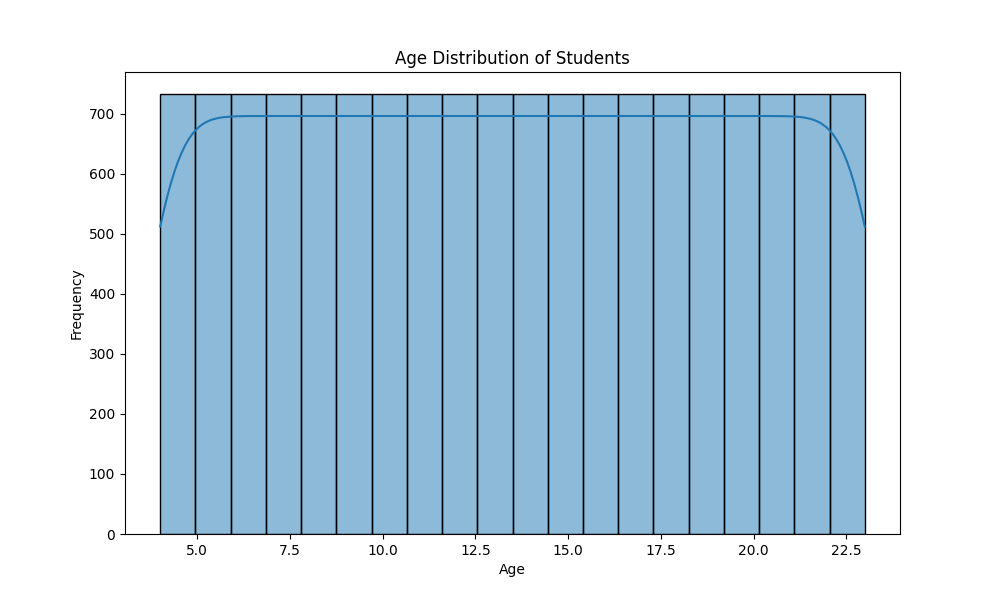

The dashboard page shown, as its layout file describes it:
{"tool":"tableau","page":{"name":"Dashboard 1","canvas":[1000,1000],"units":"permille","ordinal":0},"visuals":[{"type":"worksheet","title":"Sheet 2","mark":"Bar","rows":["count"],"cols":["date","date"],"box":[1.8,480.7,991,499.4]}]}

Visuals, with their boxes on the dashboard's canvas, which has no fixed pixel size, in thousandths of its width and height (x1, y1, x2, y2). These are canvas units, not pixel positions in the 1000x600 screenshot, which may show the page scaled, cropped or inside an application window:
"Sheet 2" worksheet (Bar marks): bbox(2, 481, 993, 980)
